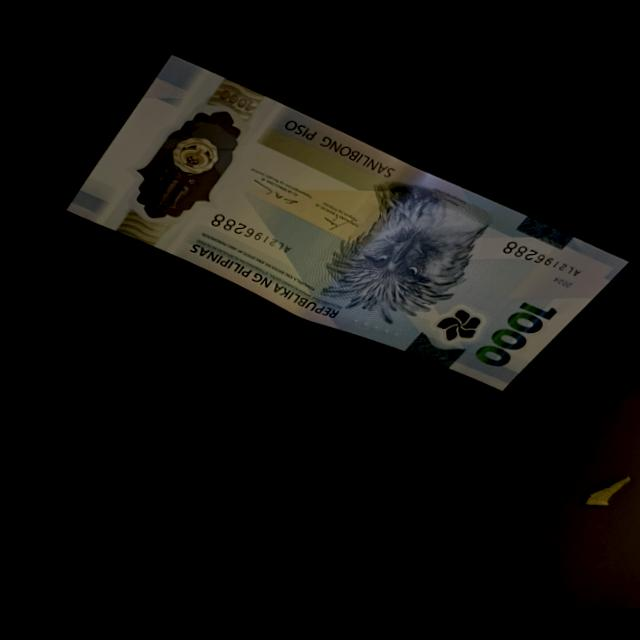clear_window: (139, 101, 250, 227)
eagle: (306, 205, 482, 316)
sampaguita: (427, 313, 485, 352)
